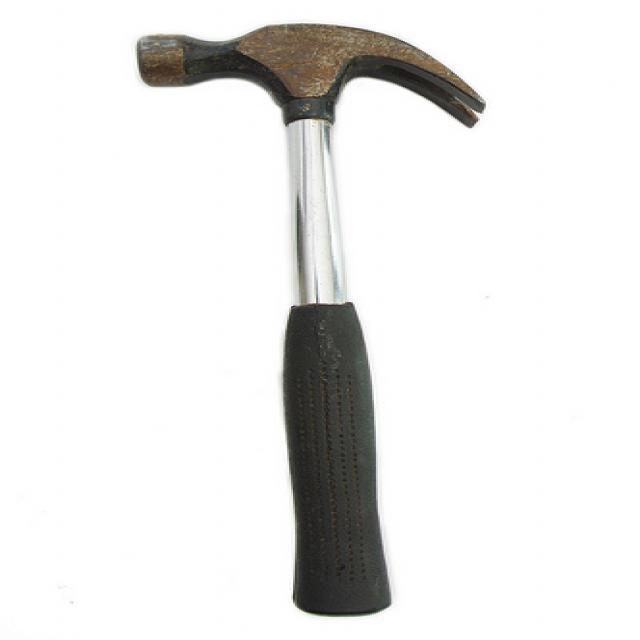hammer: (128, 14, 498, 622)
